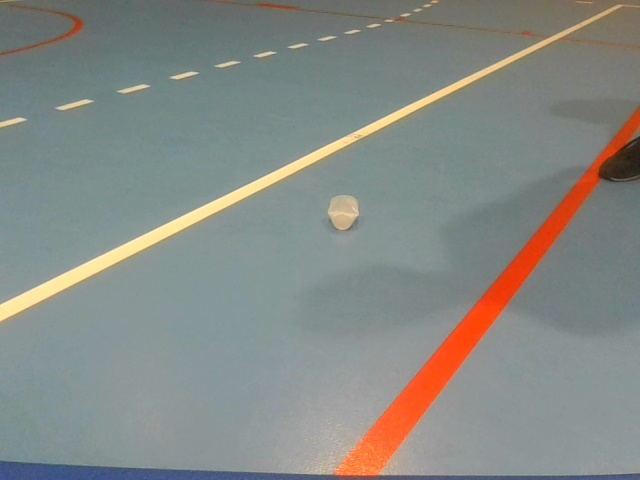plasticcup: (327, 196, 360, 229)
